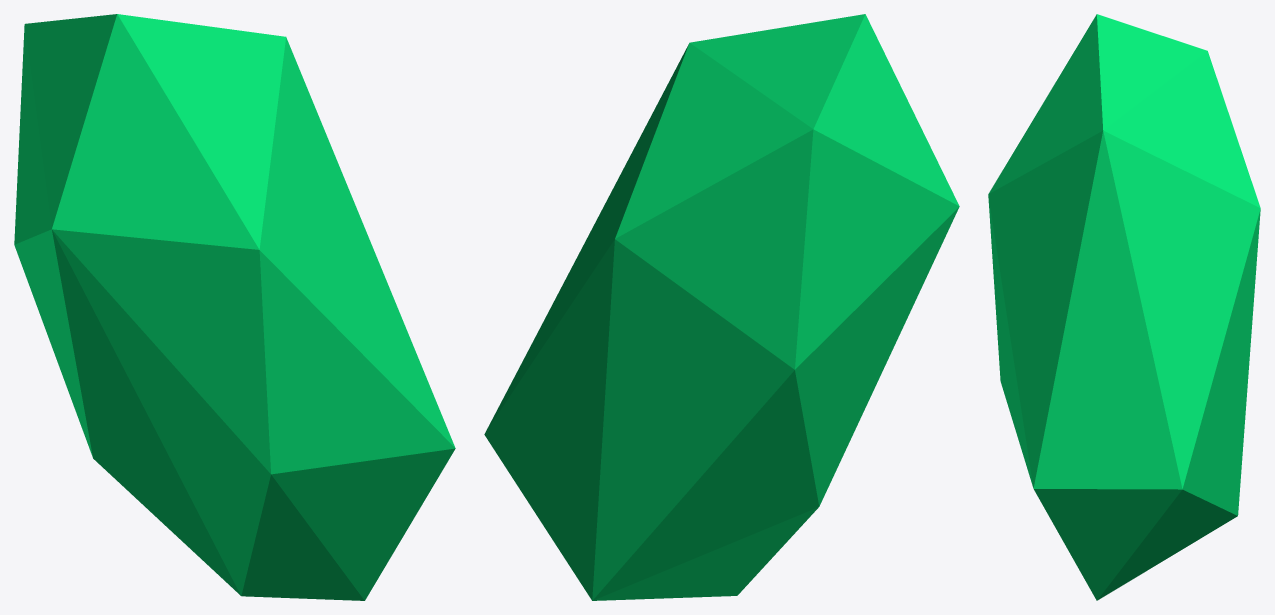
The model's file is cryptonit.fbx.
The picture shows the model from 3 angles, left to right: view 1: azimuth 30°, elevation 25°; view 2: azimuth 150°, elevation 25°; view 3: azimuth 270°, elevation 25°; orthographic projection. The views are drawn at different scales.
Parts seen in each view (by area): view 1: Icosphere; view 2: Icosphere; view 3: Icosphere.
Part boxes in pixels (left/top/right/bottom): Icosphere: left=14, top=14, right=455, bottom=600; Icosphere: left=484, top=14, right=959, bottom=600; Icosphere: left=988, top=14, right=1260, bottom=600.
Bounding box in the file's own units: 253 × 383 × 191.
